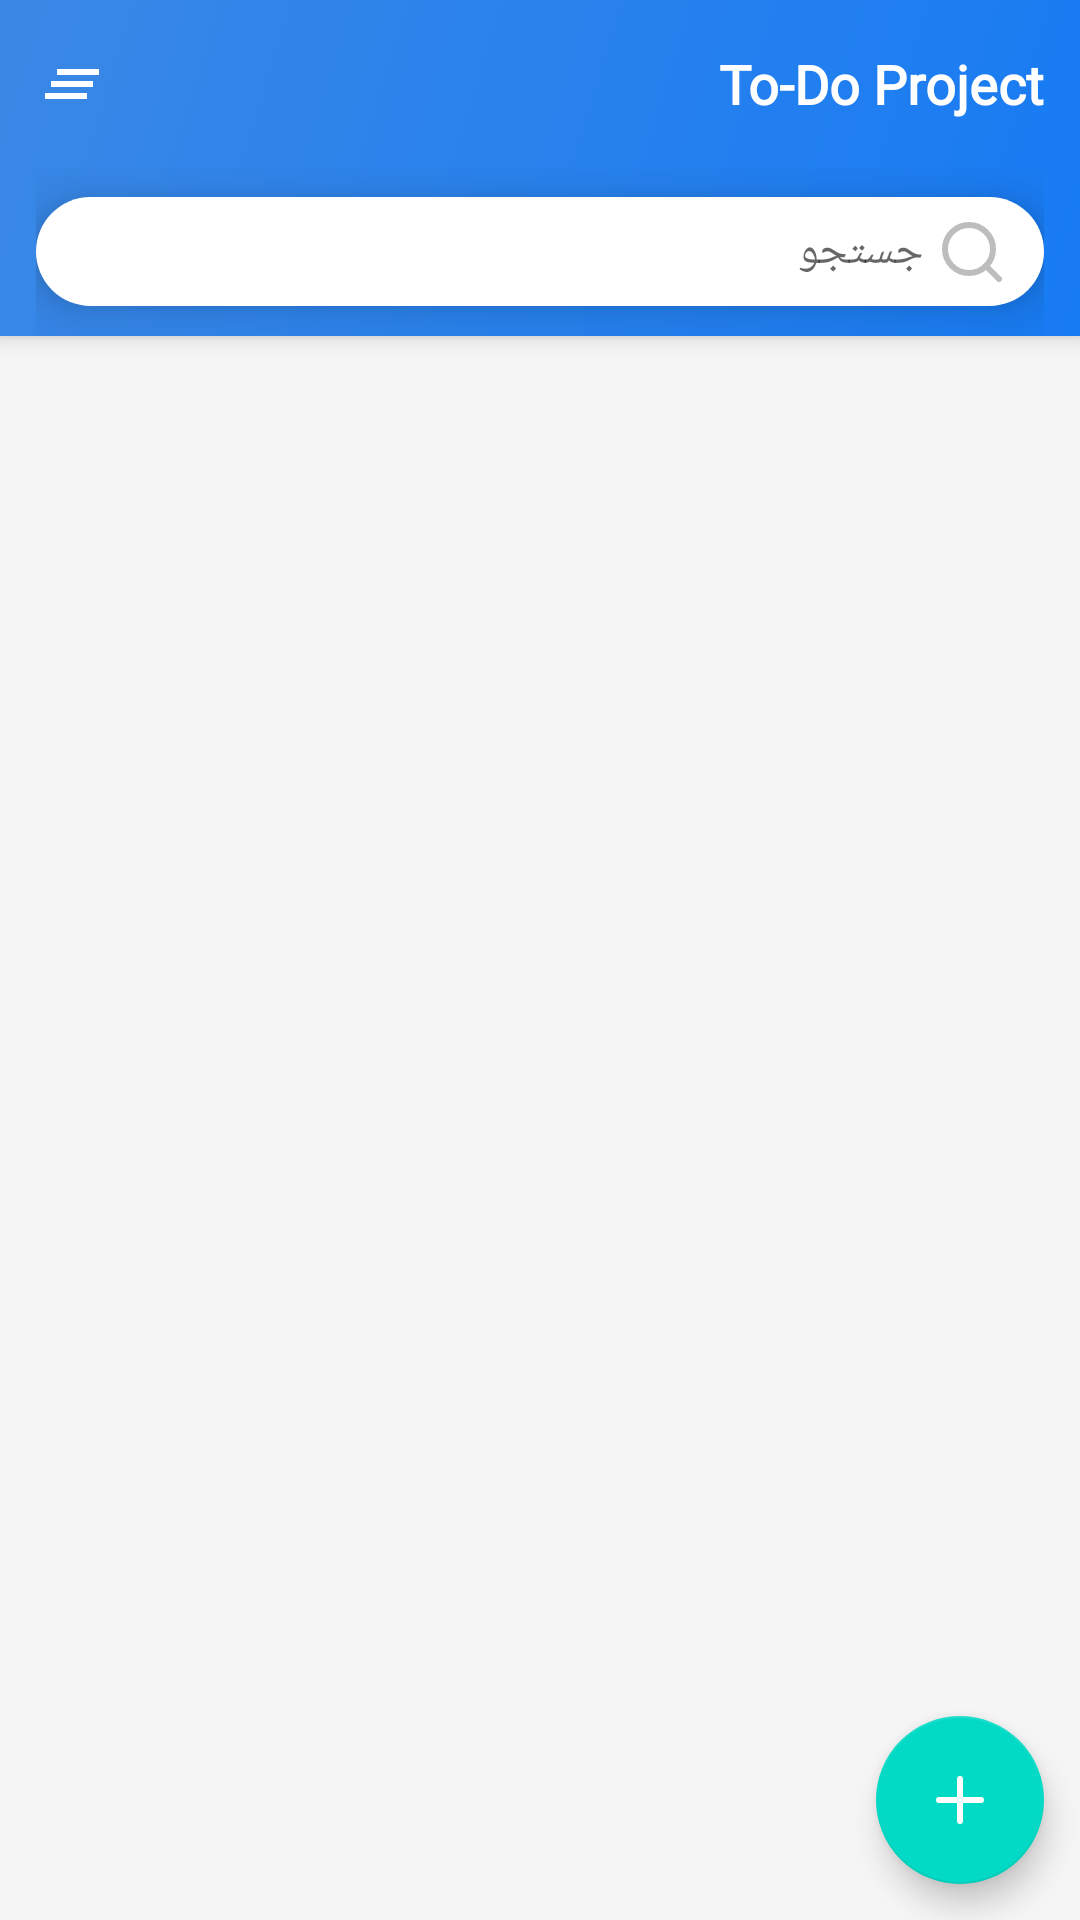

Icon click points for this 1080*1920 phone screenshot, format (x=x, y=y):
clear all: (x=72, y=84)
plus: (x=960, y=1800)
search: (x=972, y=252)
